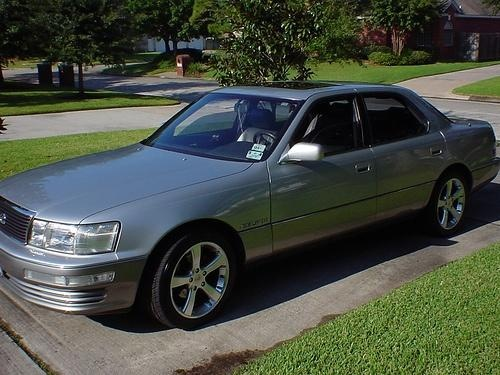car: (1, 80, 498, 331)
